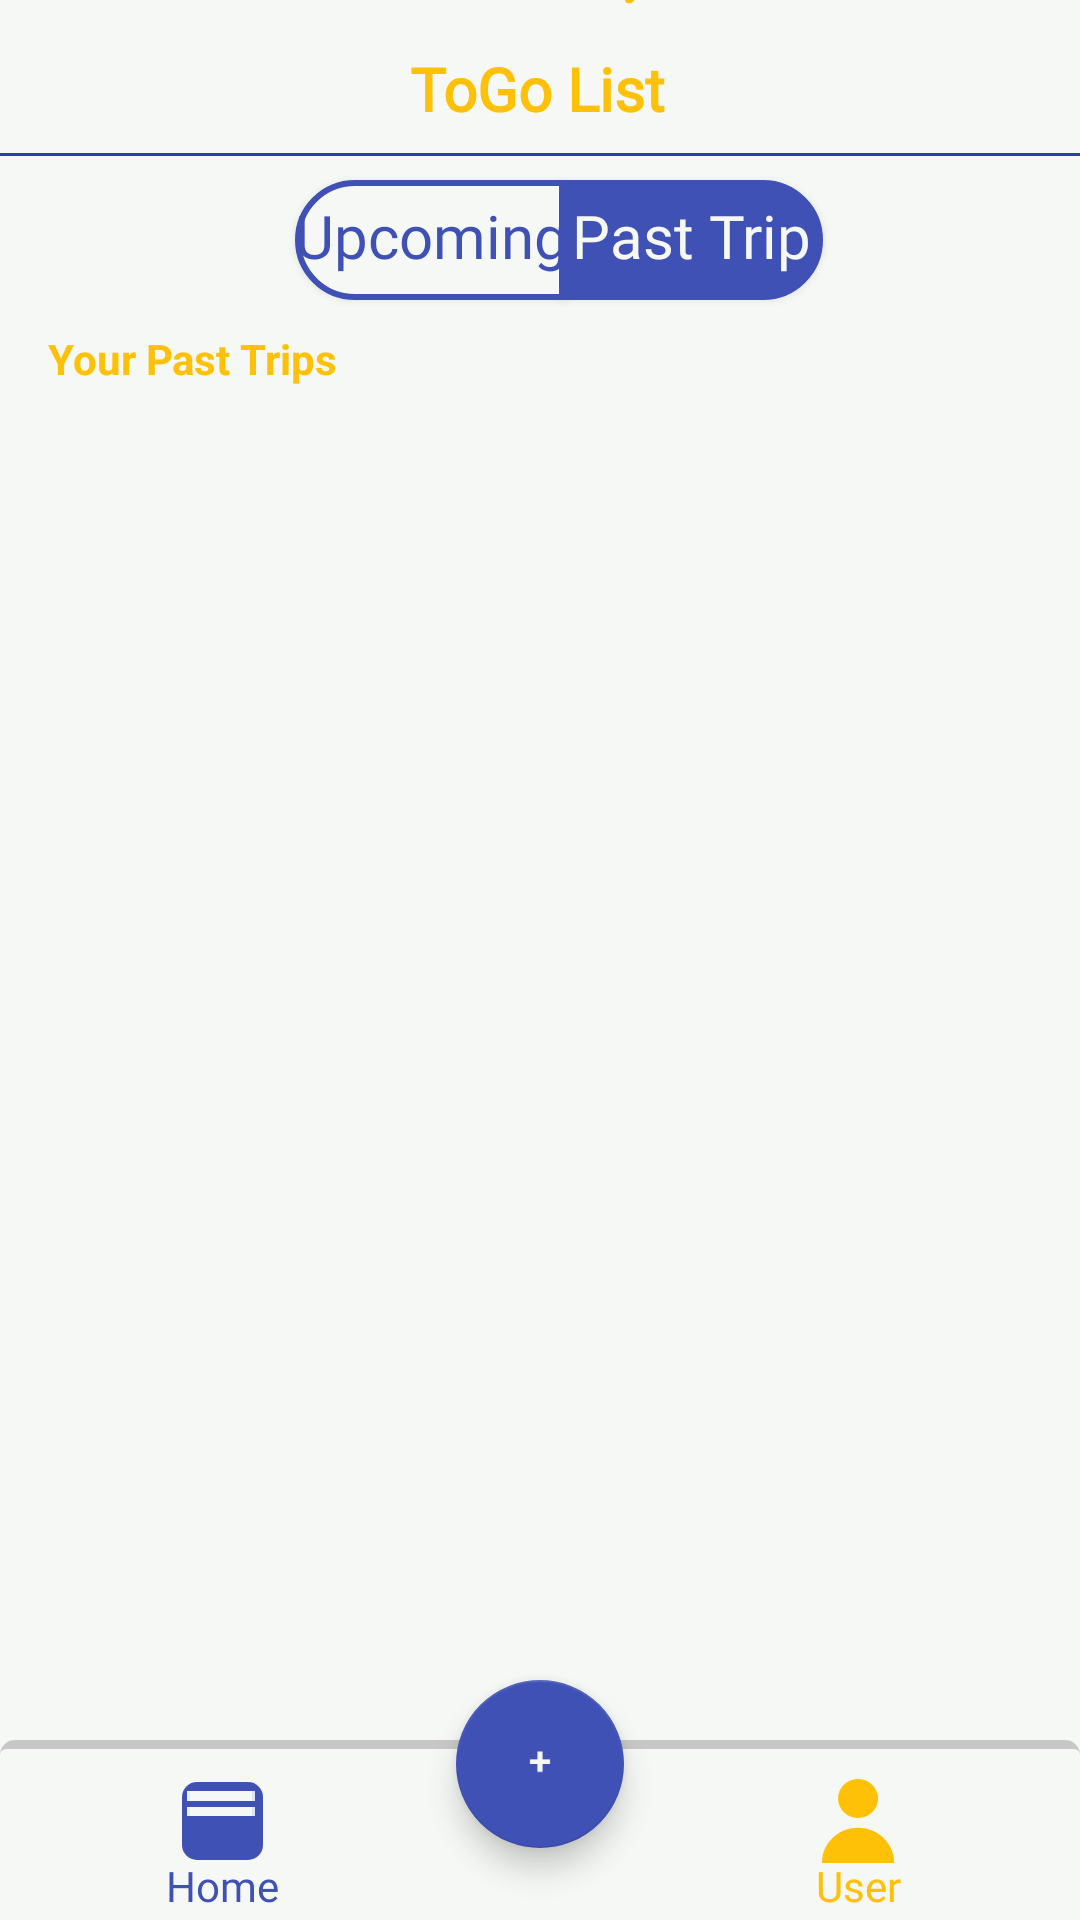

Point at icon controls on the screen. Image size 1080x1920, points as (x=x, y=y).
add: (x=540, y=1764)
